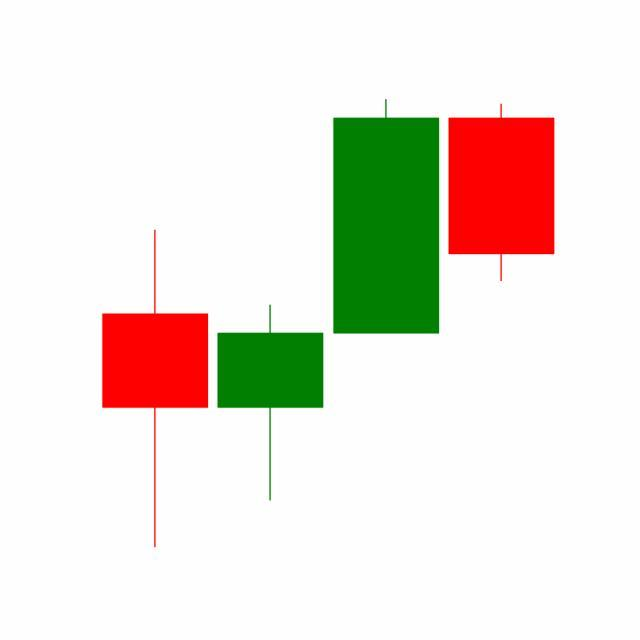Marubozu: (329, 97, 445, 336)
